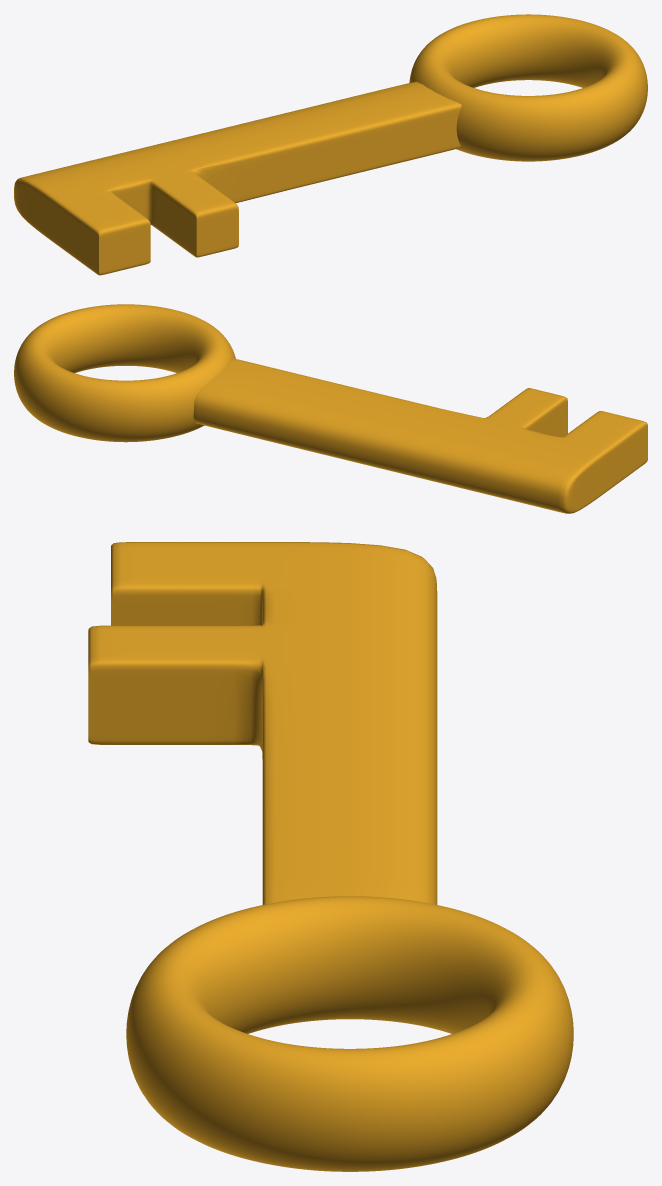
File: Key.fbx
3 renders of one model, top to bottom at view 1: azimuth 30°, elevation 25°; view 2: azimuth 150°, elevation 25°; view 3: azimuth 270°, elevation 25°, orthographic. The views are drawn at different scales.
Parts seen in each view (by area): view 1: Torus; view 2: Torus; view 3: Torus.
Boxes of the visible parts, x1,y1,x2,y2 form: Torus: (14, 14, 647, 275); Torus: (14, 304, 647, 513); Torus: (88, 542, 573, 1171).
Bounding box in the file's own units: 713 × 71.65 × 268.
